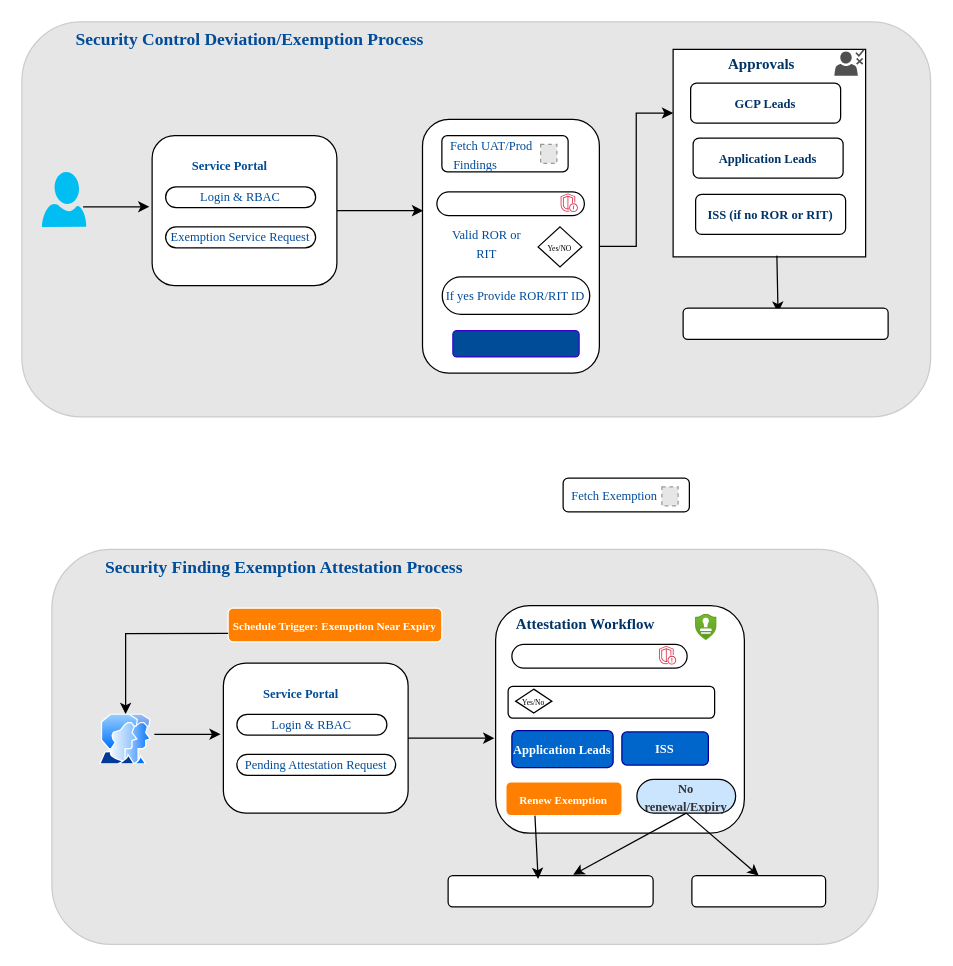
The diagram is 953 pixels wide and 966 high, and some of its shapes have lost their labels. Grey dashed boxes stand in for pictures. The shapes that lost their labels are listed below. From the top down, each one's box as (x1, y1, x2, y2) in pixels, then its label:
(436, 191, 584, 216): Select SCC Finding
(452, 329, 579, 357): Submit Request
(682, 307, 888, 339): Exemption Recorded and Applied
(511, 643, 687, 668): Exemption Form
(507, 685, 715, 718): Attest/Renew Exemption
(99, 714, 151, 764): ISS/App Leads
(447, 874, 653, 907): Update Attestation Record
(691, 874, 826, 907): Unmute Control
